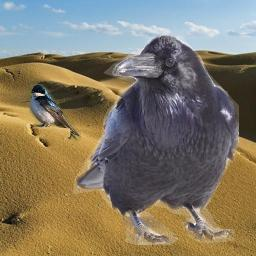Crow: (73, 32, 239, 245)
Swallow: (29, 84, 81, 143)
